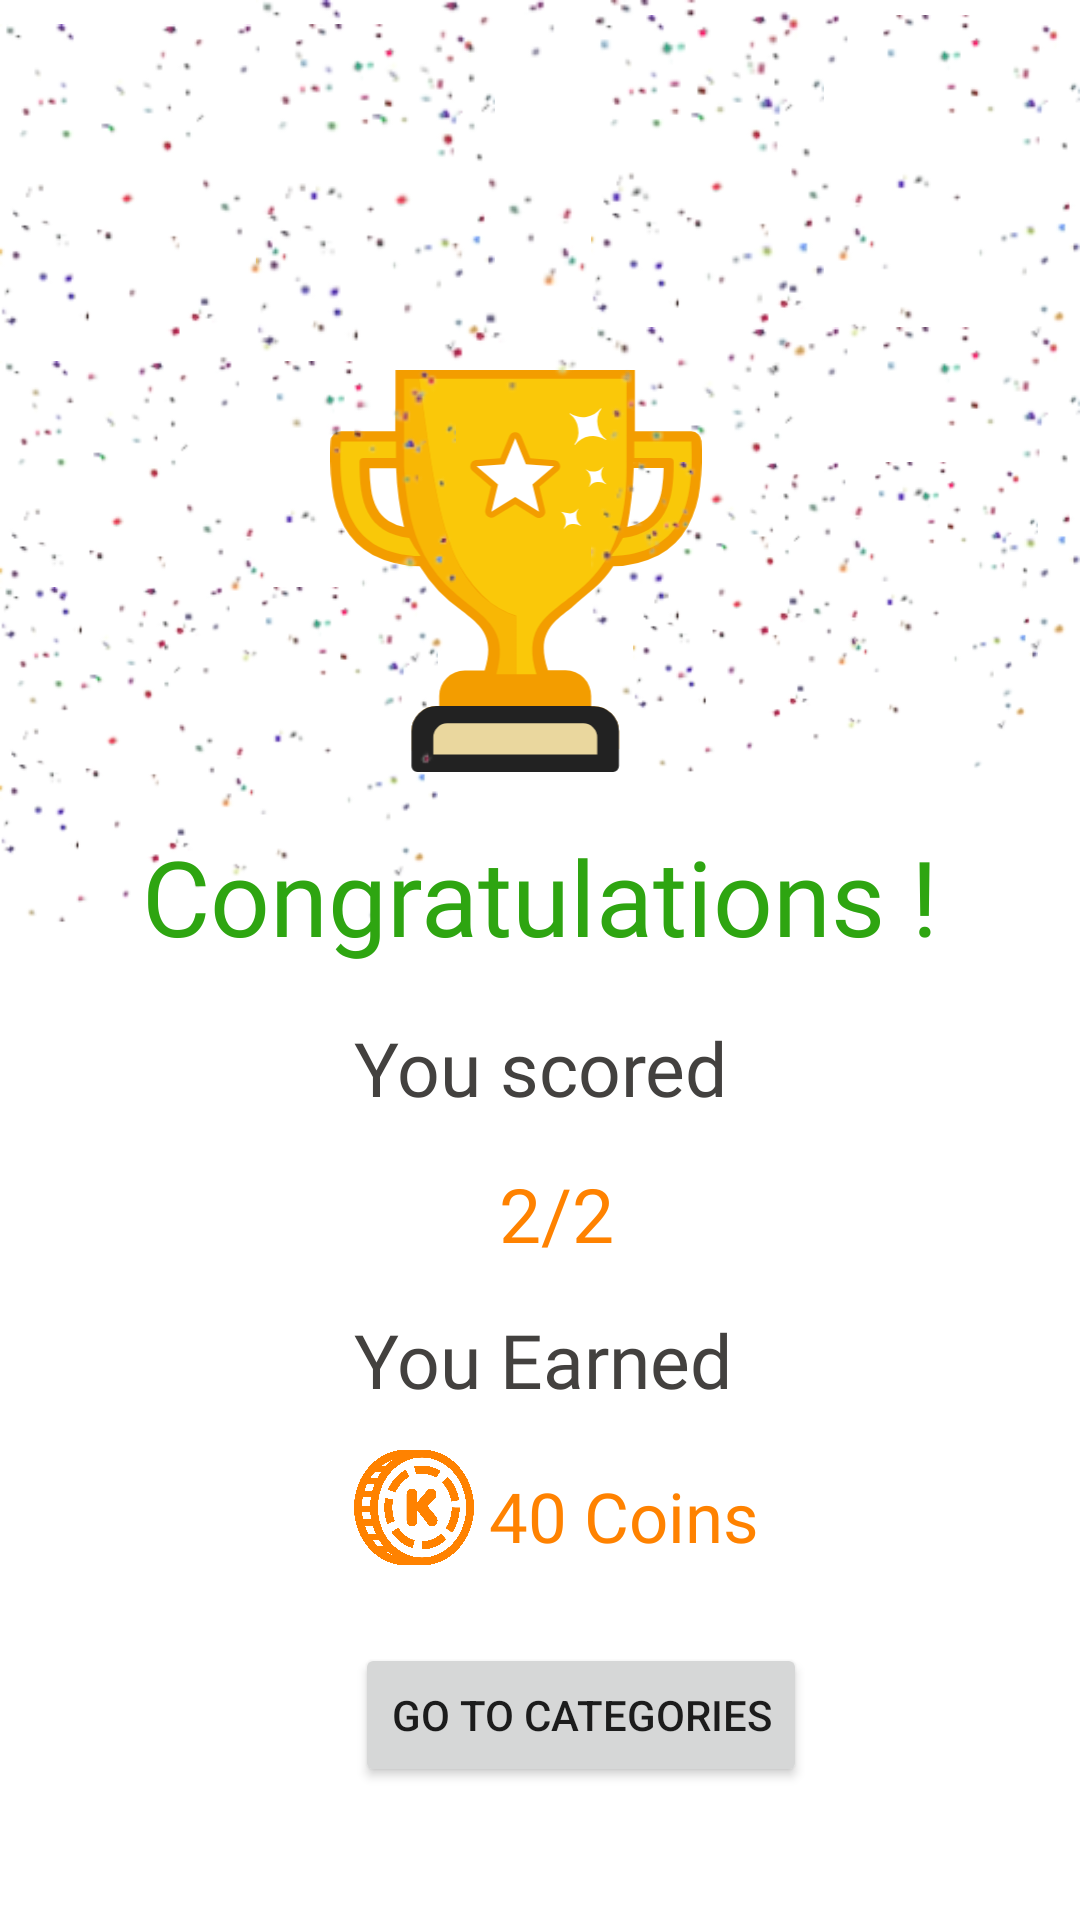

Icon click points for this 1080*1920 phone screenshot, format [x,y]:
kcoin: [414,1507]
